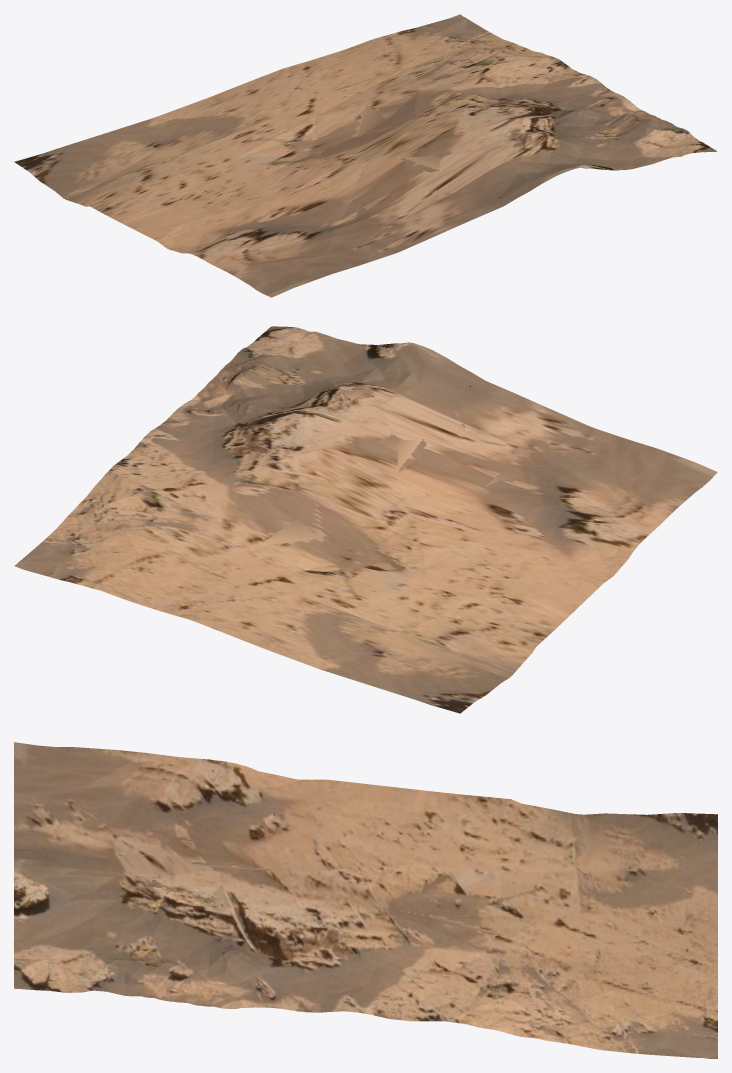
The picture shows the model from 3 angles, top to bottom: view 1: azimuth 30°, elevation 25°; view 2: azimuth 150°, elevation 25°; view 3: azimuth 270°, elevation 25°; orthographic projection. The views are drawn at different scales.
Bounding box in the file's own units: 1.04 × 0.2418 × 1.04.
3 materials, 3 textured.
